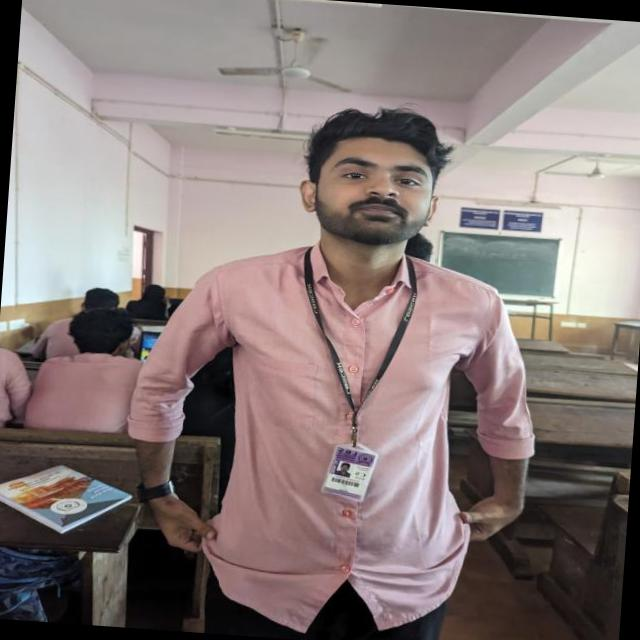id_card: (286, 237, 416, 502)
